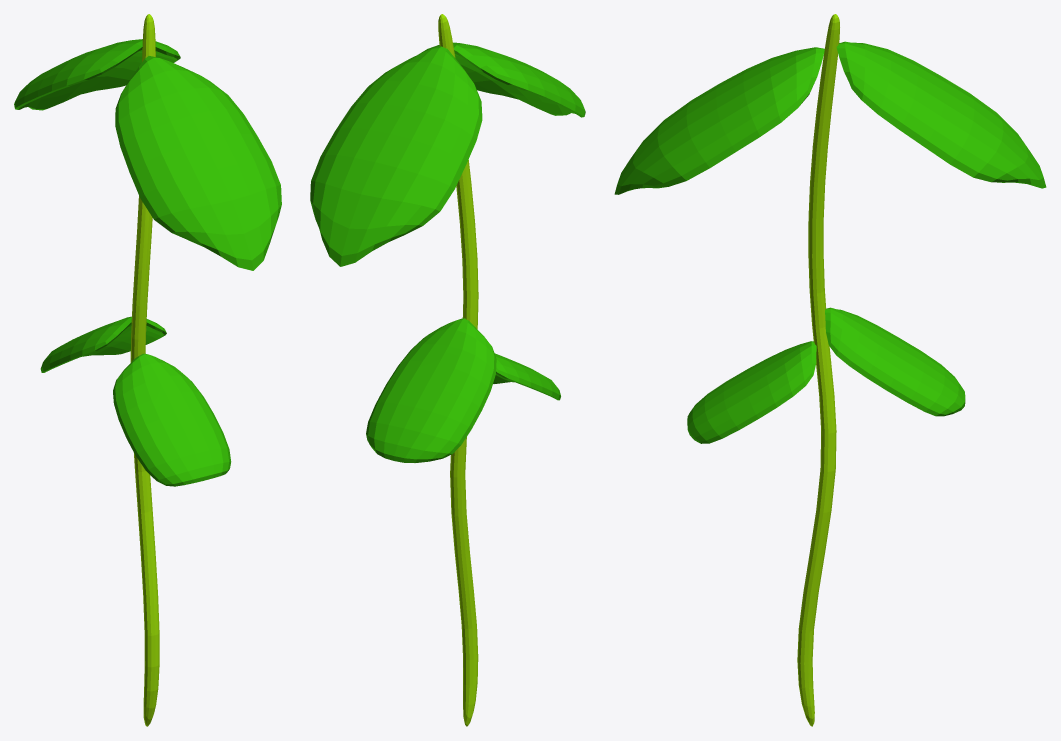
Rendered from Lima Growth SDM.fbx.
3 renders of one model, left to right at view 1: azimuth 30°, elevation 25°; view 2: azimuth 150°, elevation 25°; view 3: azimuth 270°, elevation 25°, orthographic. The views are drawn at different scales.
Parts seen in each view (by area): view 1: Plane.006, Plane.001, Cylinder.001, Plane.007, Plane; view 2: Plane.007, Plane, Cylinder.001, Plane.006, Plane.001; view 3: Plane.007, Plane.006, Cylinder.001, Plane, Plane.001.
Boxes of the visible parts, box(x1,y1,x2,y2) form: Plane.006: box(115, 56, 281, 270); Plane.001: box(113, 353, 231, 486); Cylinder.001: box(130, 14, 159, 726); Plane.007: box(14, 39, 180, 110); Plane: box(40, 316, 166, 372); Plane.007: box(310, 46, 482, 266); Plane: box(366, 318, 496, 462); Cylinder.001: box(438, 14, 478, 726); Plane.006: box(419, 42, 585, 117); Plane.001: box(493, 353, 560, 400); Plane.007: box(836, 41, 1046, 188); Plane.006: box(614, 47, 824, 194); Cylinder.001: box(797, 14, 839, 726); Plane: box(825, 307, 965, 416); Plane.001: box(687, 341, 816, 443).
Size of the model in its own units: 178 by 902 by 491.
